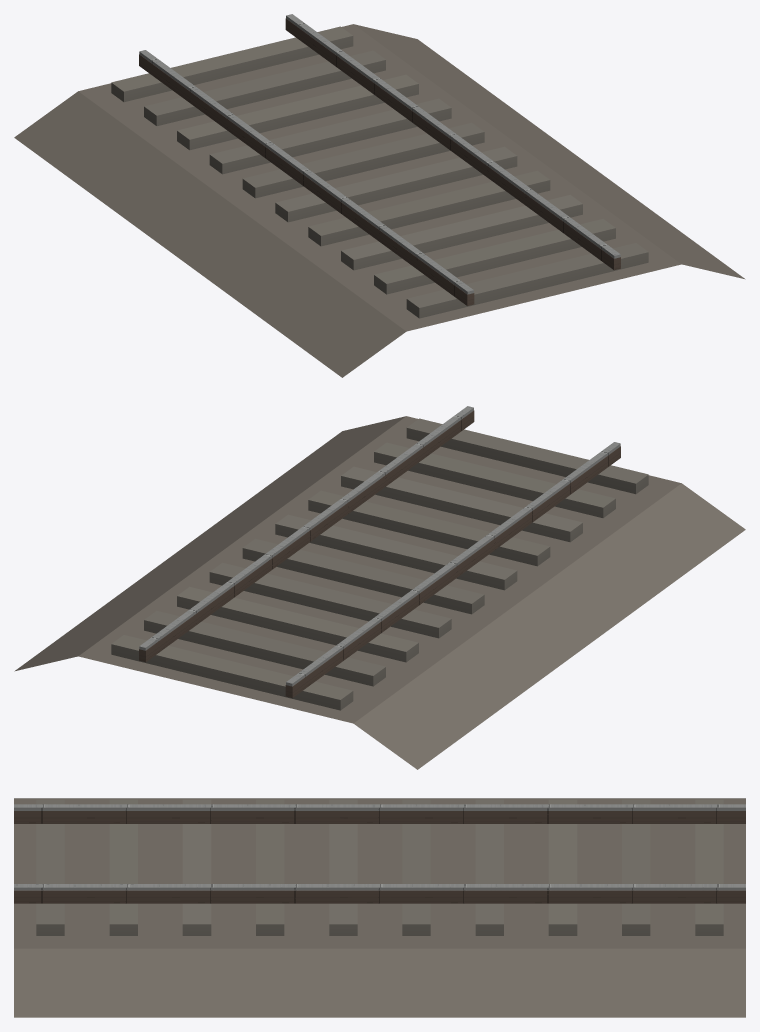
File: modulo_de_trilho_concreto.glb
3 views of the same model, one above another, from view 1: azimuth 30°, elevation 25°; view 2: azimuth 150°, elevation 25°; view 3: azimuth 270°, elevation 25° (orthographic). The views are drawn at different scales.
Parts seen in each view (by area): view 1: modulo_de_trilho_concreto_liso, modulo_de_trilho_concreto; view 2: modulo_de_trilho_concreto_liso, modulo_de_trilho_concreto; view 3: modulo_de_trilho_concreto_liso, modulo_de_trilho_concreto.
Part boxes in pixels (x1=…): modulo_de_trilho_concreto_liso: x1=14, y1=24, x2=745, y2=377; modulo_de_trilho_concreto: x1=139, y1=14, x2=620, y2=305; modulo_de_trilho_concreto_liso: x1=14, y1=416, x2=745, y2=769; modulo_de_trilho_concreto: x1=139, y1=406, x2=620, y2=697; modulo_de_trilho_concreto_liso: x1=14, y1=798, x2=745, y2=1017; modulo_de_trilho_concreto: x1=14, y1=804, x2=745, y2=903.
Bounding box in the file's own units: 4.4 × 0.58 × 6.2.
Materials: 2 (1 with a texture image).
